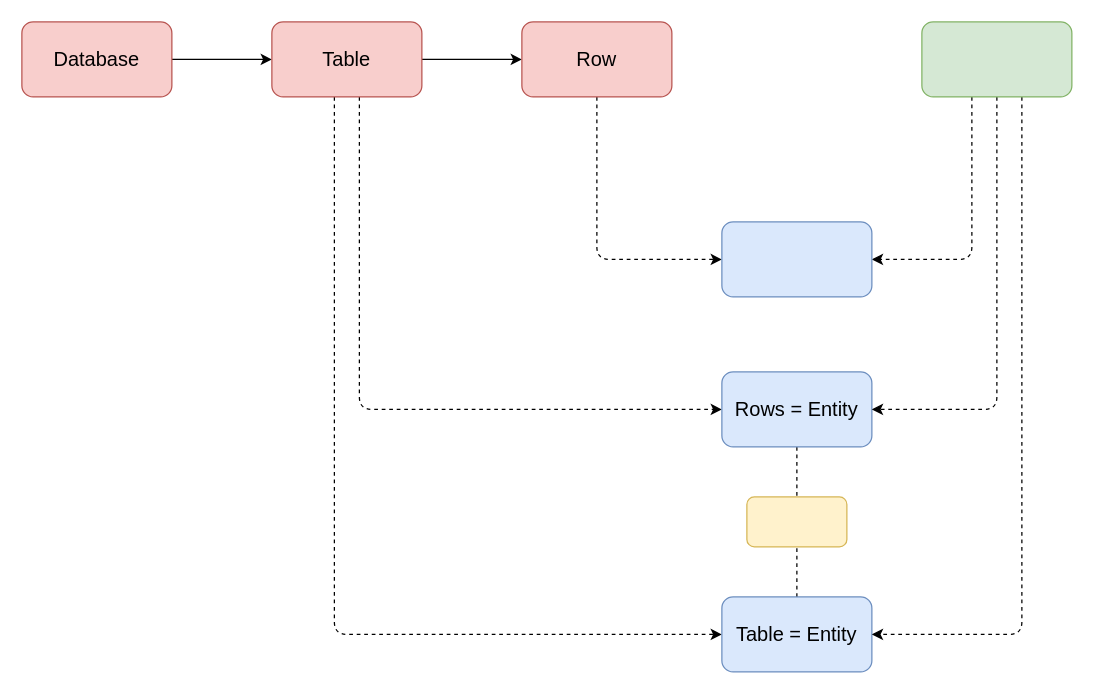
Some shapes in this 1094 by 694 pixel diagram are drawn without their labels. The shapes that lost their labels are listed below. From the top down, each one's centre as x and y in pixels, then its label:
At [996,59]: "Entity".
At [796,259]: "Row = Entity".
At [796,521]: "EAV".
